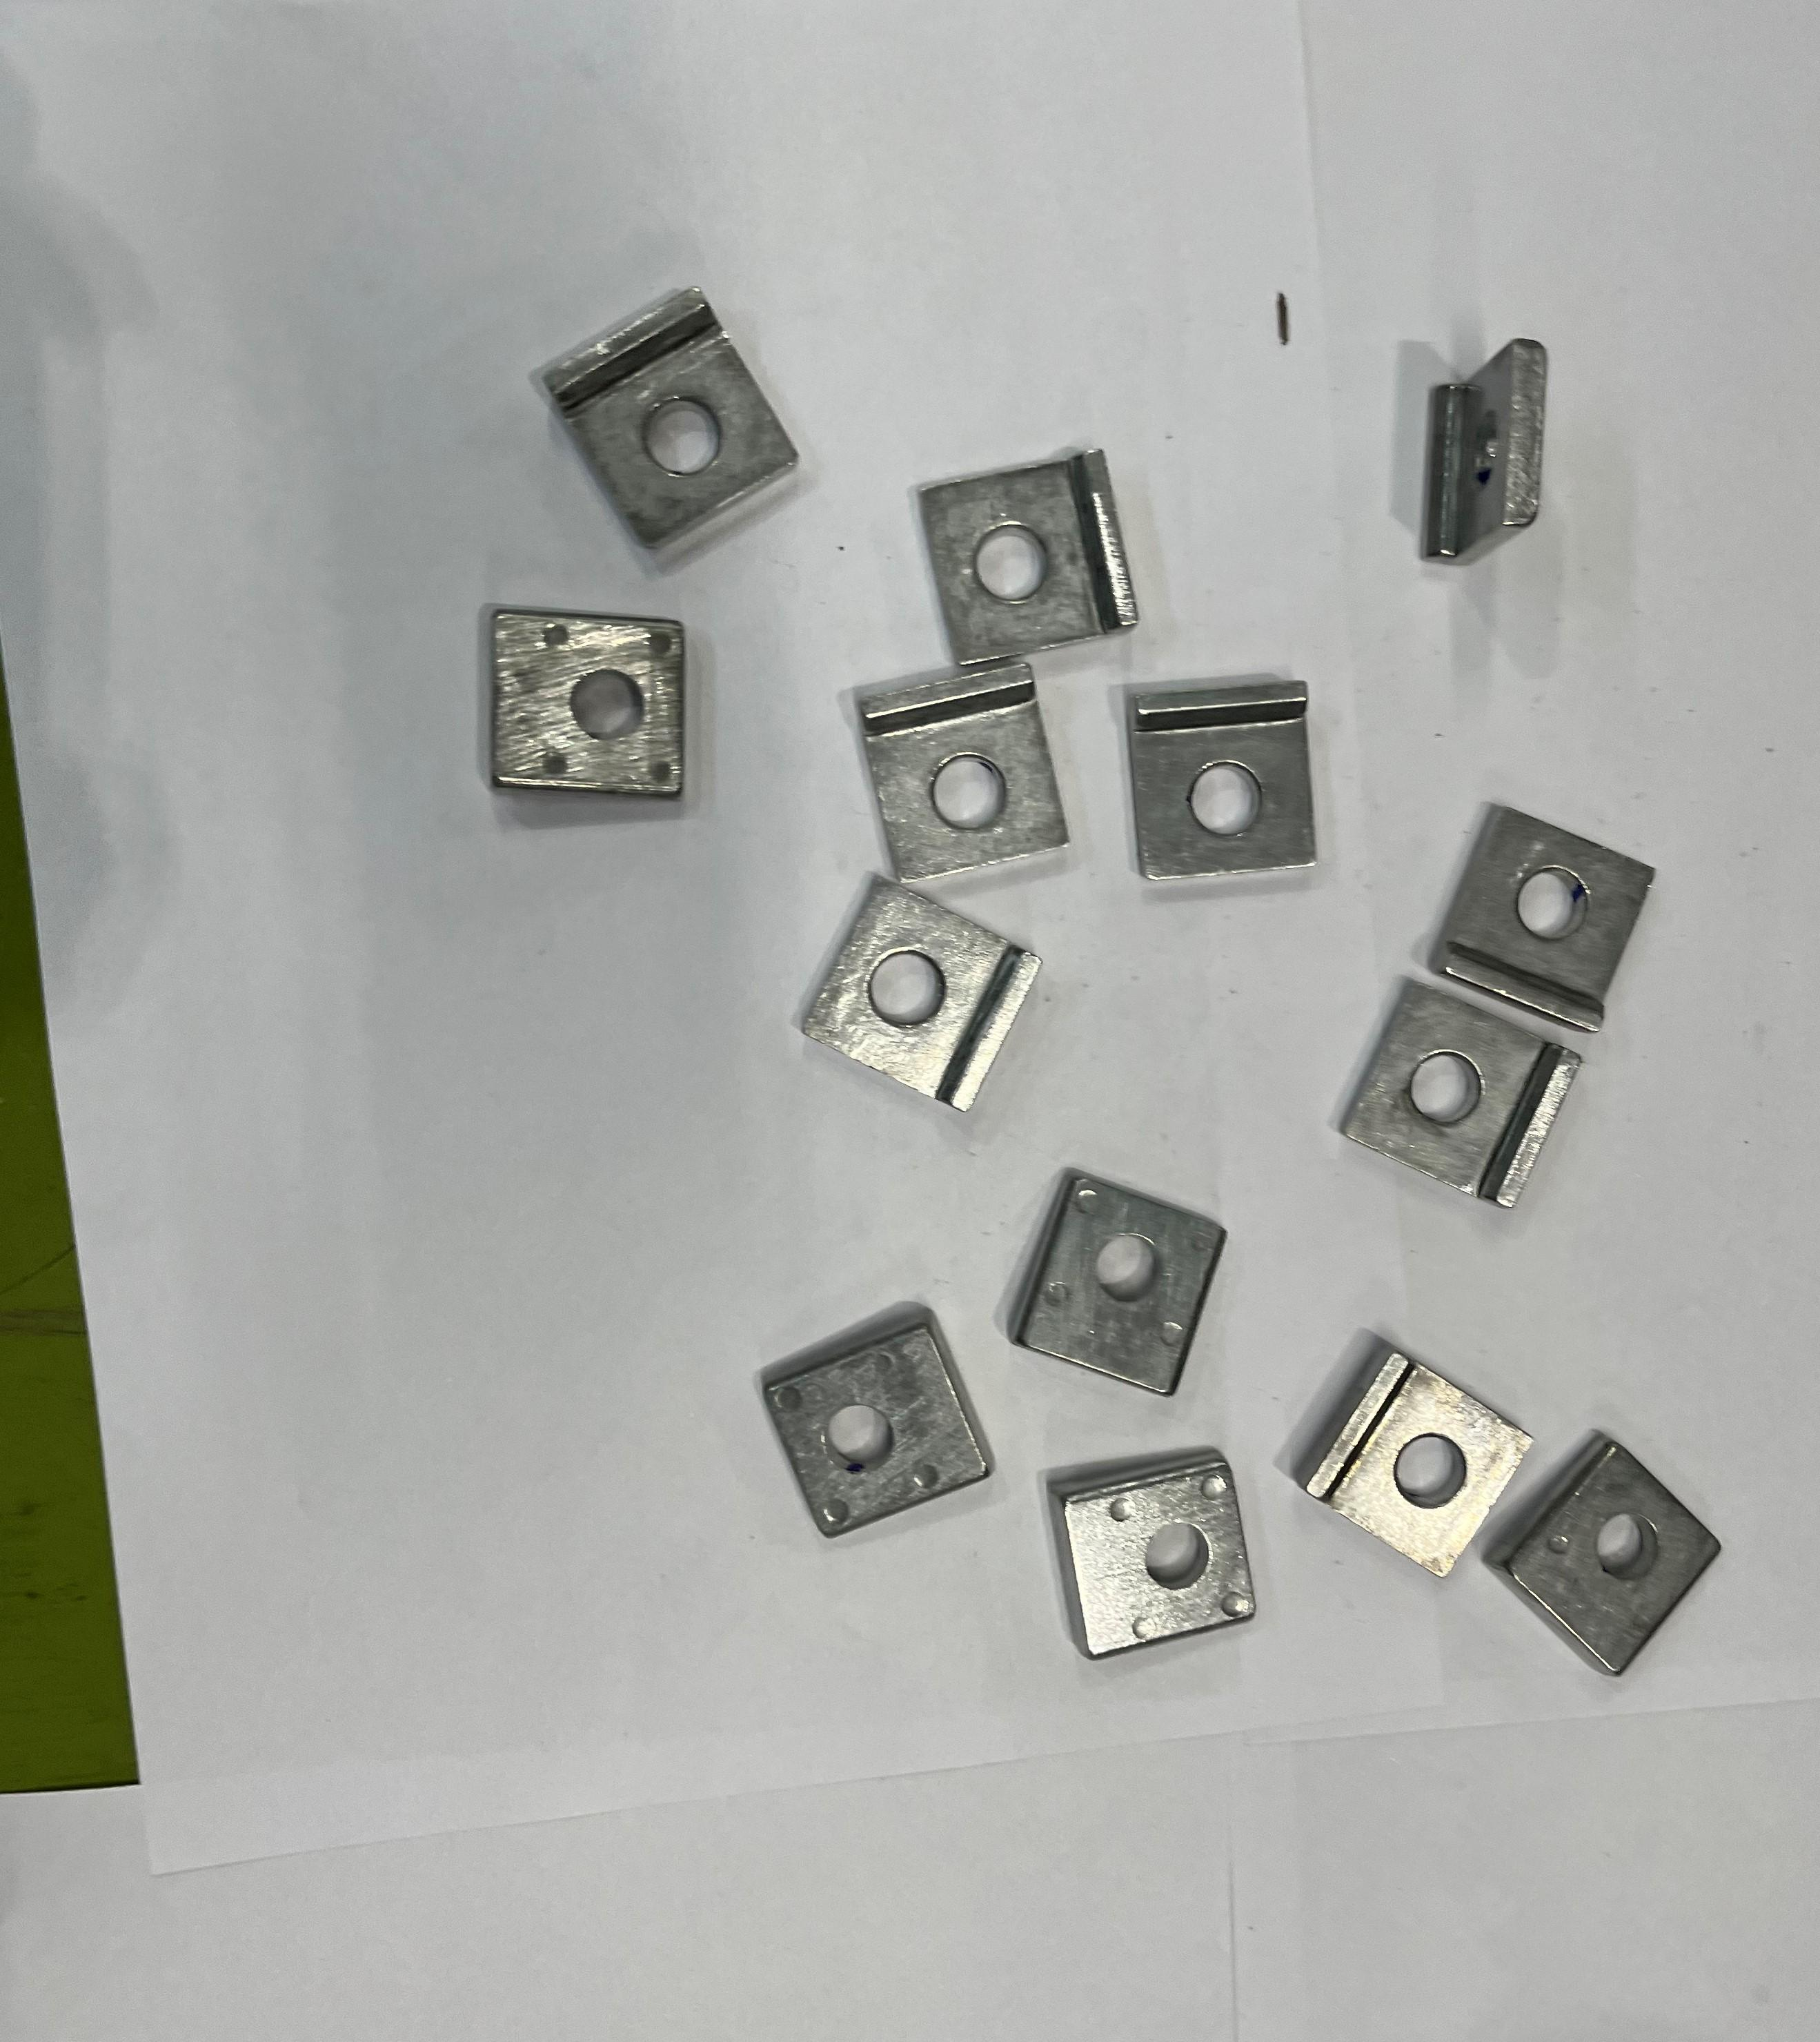Type A: (543, 281, 801, 554), (1337, 981, 1581, 1214), (1296, 1350, 1537, 1576), (803, 884, 1040, 1112), (764, 1302, 987, 1539), (1428, 801, 1655, 1032), (1504, 1441, 1723, 1675), (1008, 1167, 1230, 1395), (917, 445, 1137, 664), (856, 659, 1068, 880), (1049, 1445, 1258, 1662), (487, 608, 690, 801), (1130, 680, 1309, 880), (1419, 337, 1555, 564), (1128, 965, 1130, 968)
